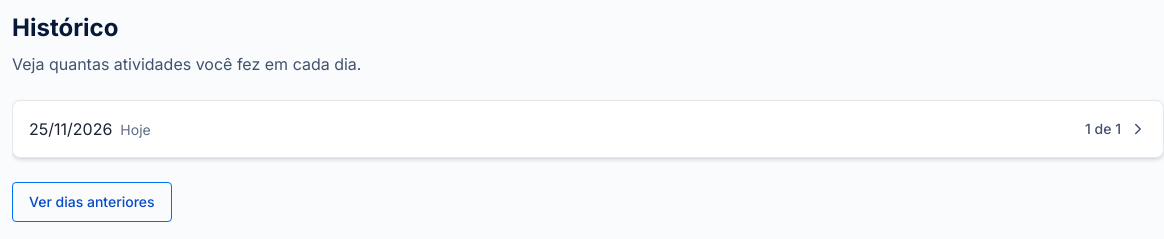
it: History › deve carregar mais dias quando há outra página
What coordinates should you click on to do the following:
click the button "Ver dias anteriores"
I would click on:
 (92, 202)
Its box is [12,182,172,222].
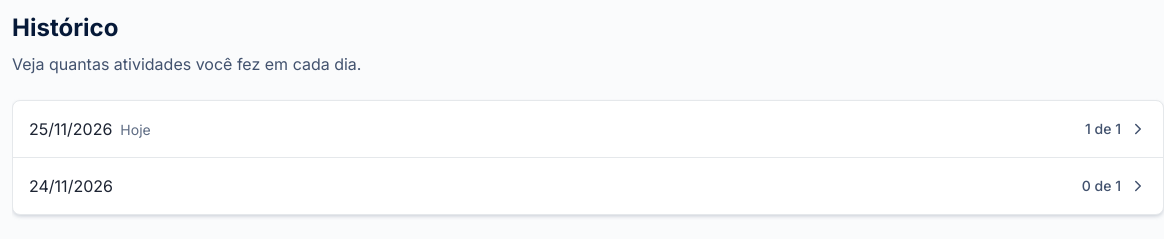
Result: the text "24/11/2026" is shown at [29,176,113,196]
Result: the button "Ver dias anteriores" is gone
